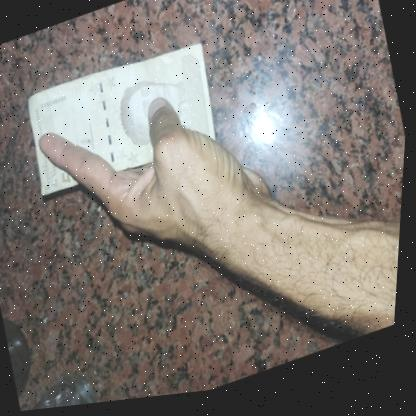five-front-vef: (18, 36, 228, 208)
